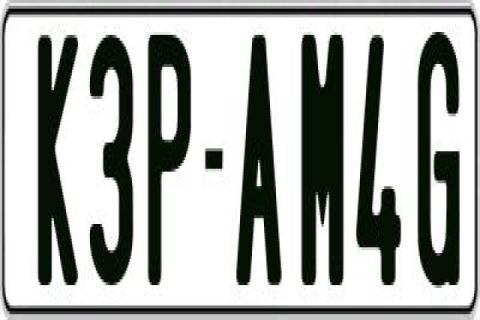0: (354, 26, 400, 294), (90, 27, 136, 280)
A: (234, 32, 280, 291)
G: (416, 24, 460, 294)
K: (35, 29, 81, 279)
M: (300, 29, 344, 279)
P: (148, 29, 191, 288)
